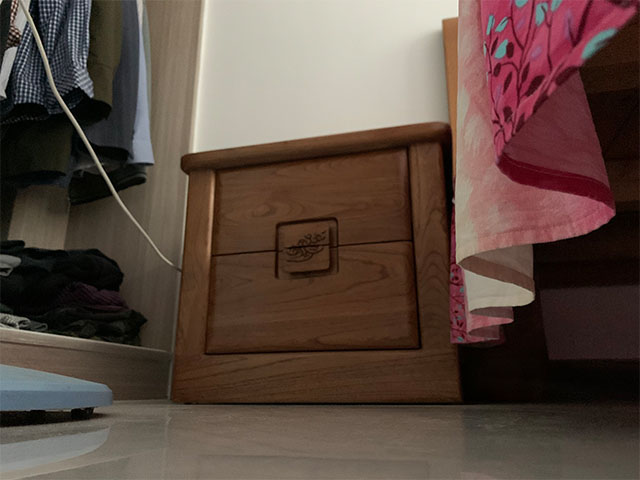bed: (441, 1, 640, 405)
cabinet: (169, 121, 465, 404)
